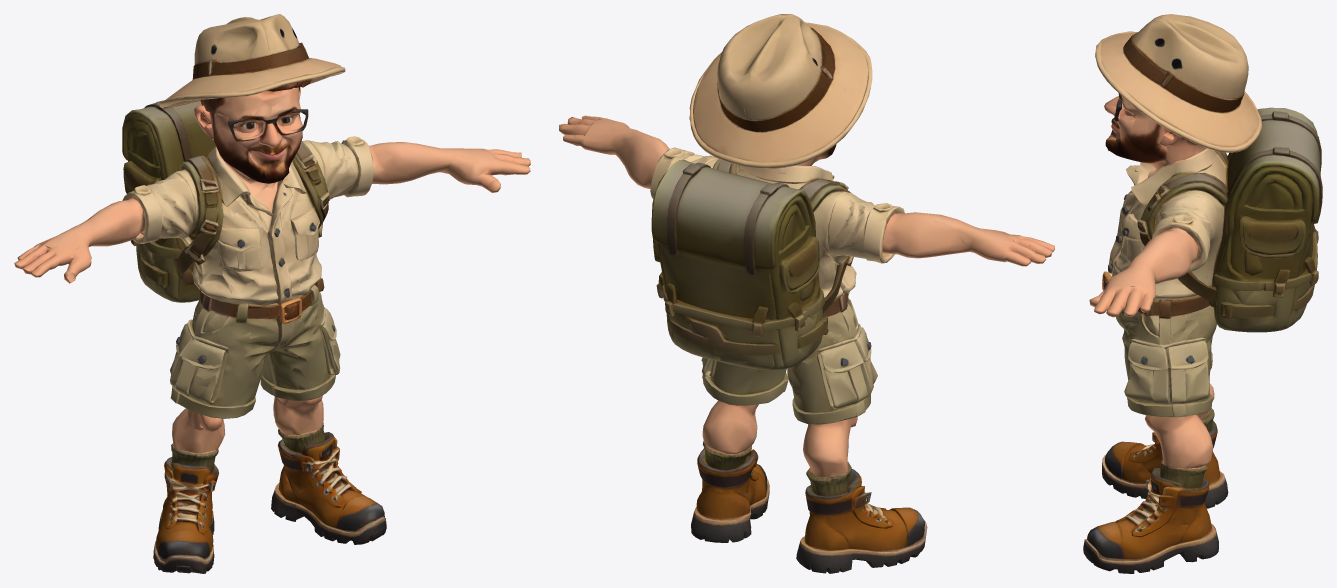
The model's file is charExplorer.glb.
The picture shows the model from 3 angles, left to right: view 1: azimuth 30°, elevation 25°; view 2: azimuth 150°, elevation 25°; view 3: azimuth 270°, elevation 25°; orthographic projection. The views are drawn at different scales.
Visible parts, largest first — view 1: model; view 2: model; view 3: model.
Boxes of the visible parts, bbox=[...] form: model: bbox=[14, 14, 530, 573]; model: bbox=[559, 14, 1054, 573]; model: bbox=[1083, 14, 1322, 573].
Size of the model in its own units: 1.9 by 1.9 by 0.8071.
Materials: 1 (1 with a texture image).
